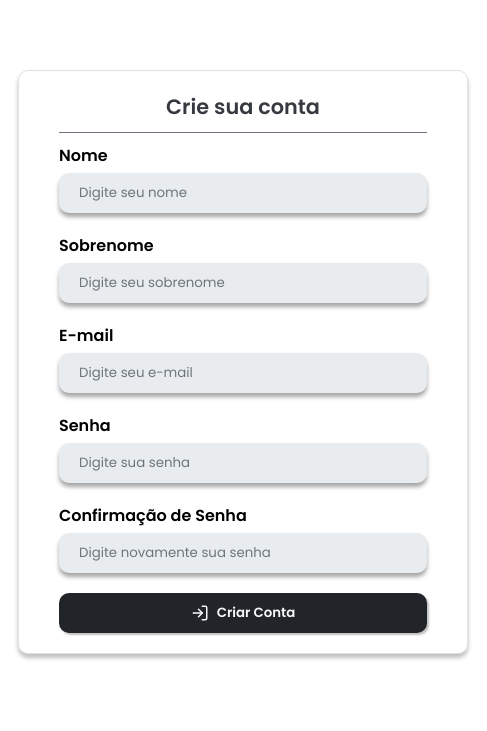
Test case: Sign Up › Should must display an error message if the passwords are not identical
Step 1. Type "123456" into the password field with placeholder "Digite sua senha" → (243, 463), box [59,443,427,483]
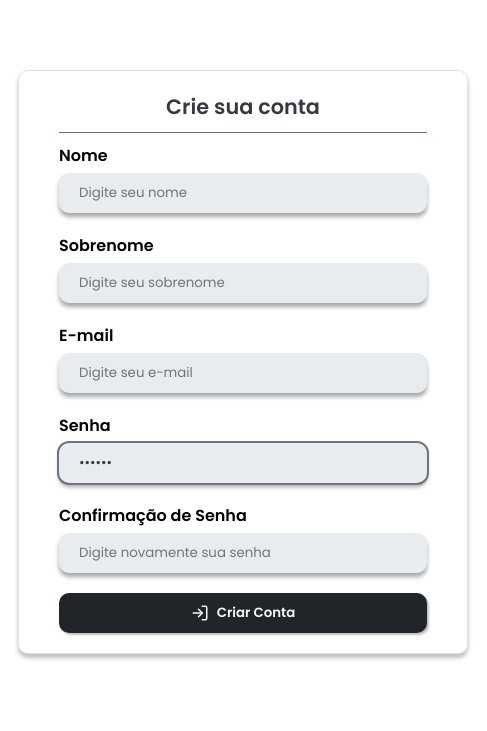
Step 2. Type "123457" into the password field with placeholder "Digite novamente sua senha" → (243, 553), box [59,533,427,573]
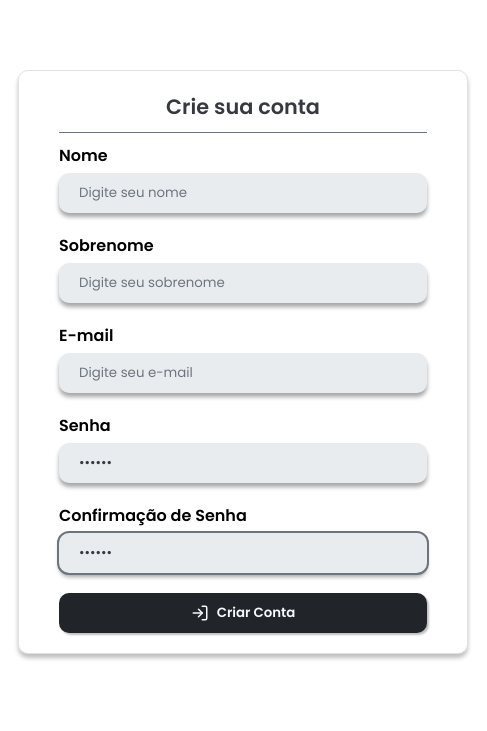
Step 3. Click the button "Criar Conta" → (243, 613), box [59,593,427,633]
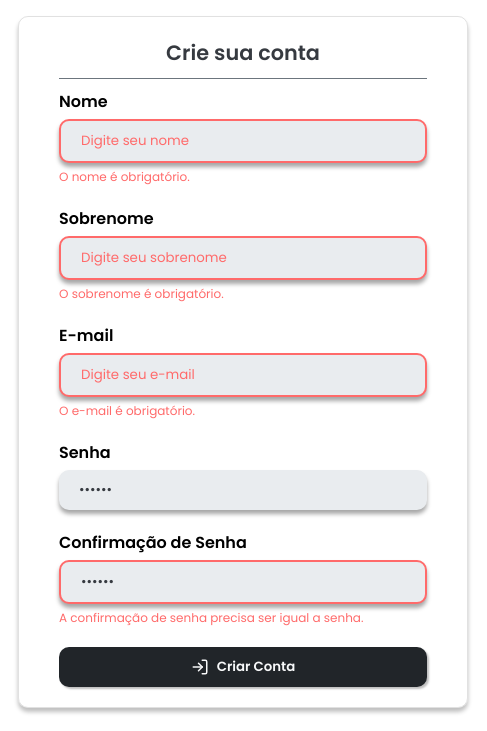
Expected: the text "A confirmação de senha precisa ser igual a senha." is shown, [59,609,364,626]
